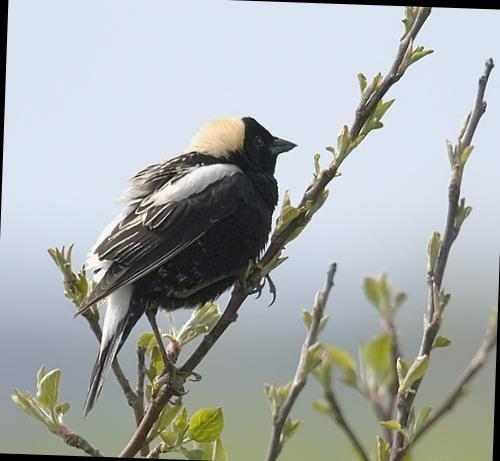bird: (70, 94, 304, 426)
